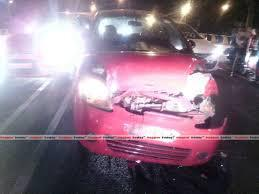bonnet-dent: (108, 50, 192, 98)
front-bumper-dent: (109, 115, 191, 163)
